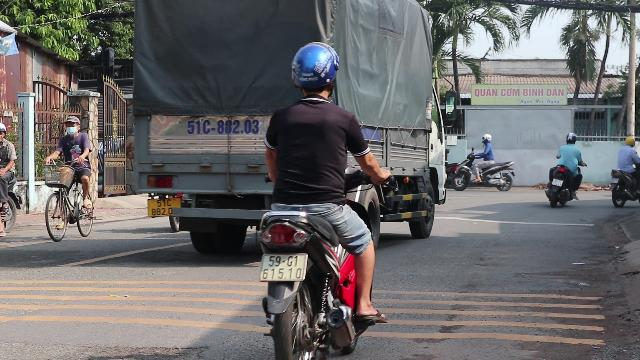helmet: (290, 42, 340, 100)
licenseplate: (260, 255, 308, 282)
motorcyclist: (244, 41, 392, 358)
